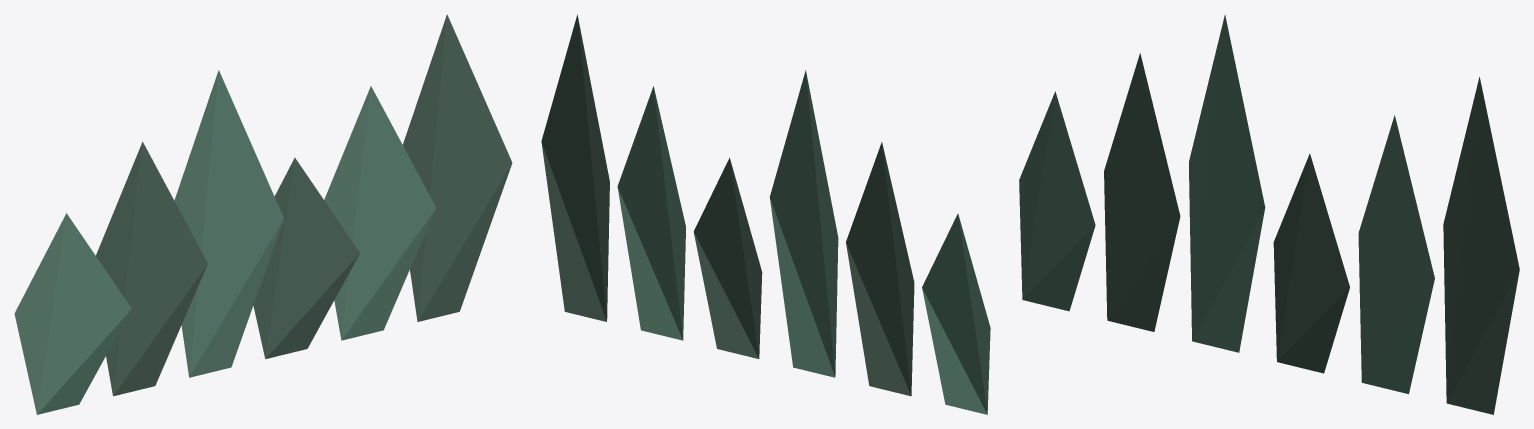
File: seaweed_patch.glb
3 renders of one model, left to right at view 1: azimuth 30°, elevation 25°; view 2: azimuth 150°, elevation 25°; view 3: azimuth 330°, elevation 25°, orthographic. The views are drawn at different scales.
Parts seen in each view (by area): view 1: seaweed_blade (×6); view 2: seaweed_blade (×6); view 3: seaweed_blade (×6).
Part boxes in pixels (x1,y1,x2,y2): seaweed_blade (×6): [14, 14, 512, 414]; seaweed_blade (×6): [541, 14, 990, 414]; seaweed_blade (×6): [1019, 14, 1519, 414].
Size of the model in its own units: 0.56 by 0.34 by 0.05.
